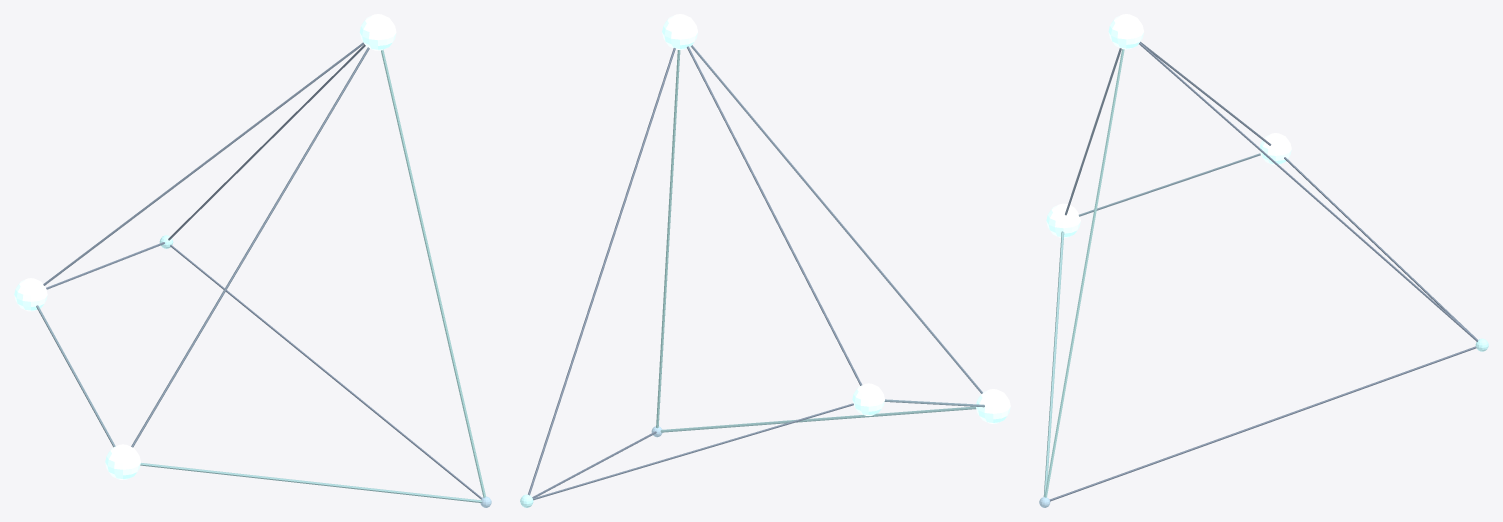
The model's file is turntable.glb.
3 renders of one model, left to right at view 1: azimuth 30°, elevation 25°; view 2: azimuth 150°, elevation 25°; view 3: azimuth 270°, elevation 25°, orthographic. The views are drawn at different scales.
Parts seen in each view (by area): view 1: brain; view 2: brain; view 3: brain.
Boxes of the visible parts, bbox=[...] form: brain: bbox=[14, 14, 491, 507]; brain: bbox=[520, 14, 1010, 507]; brain: bbox=[1039, 14, 1488, 507].
Bounding box in the file's own units: 1.47 × 1.8 × 1.59.
